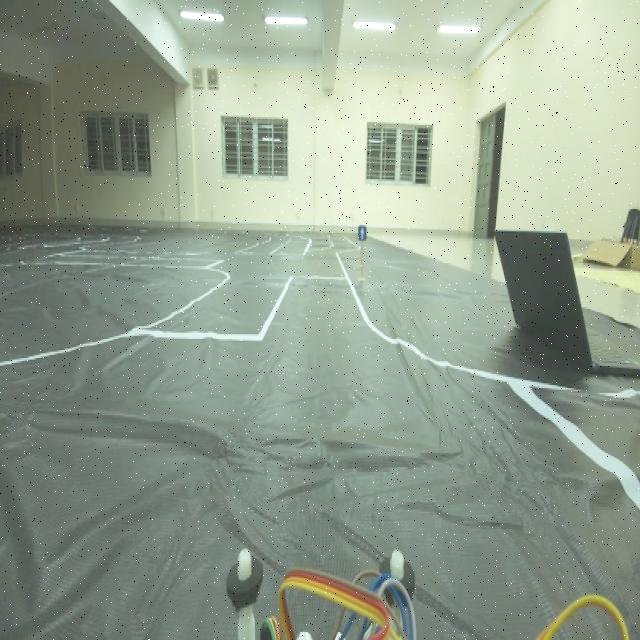onewayroad: (351, 215, 368, 246)
